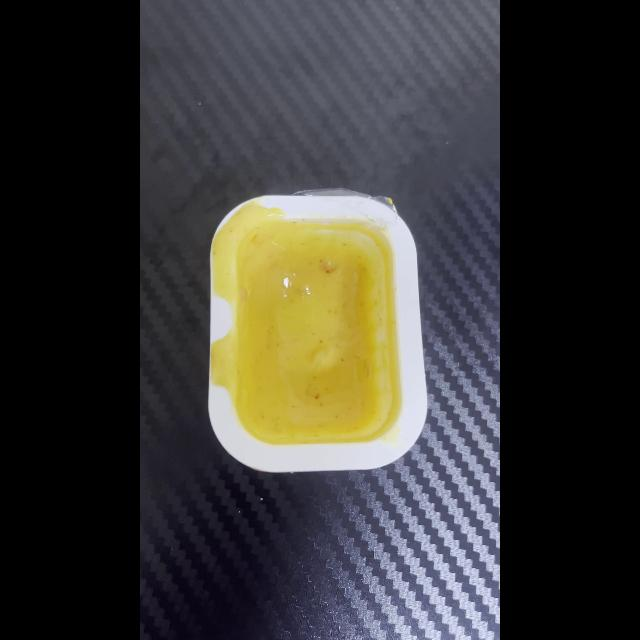dirty: (208, 195, 426, 468)
